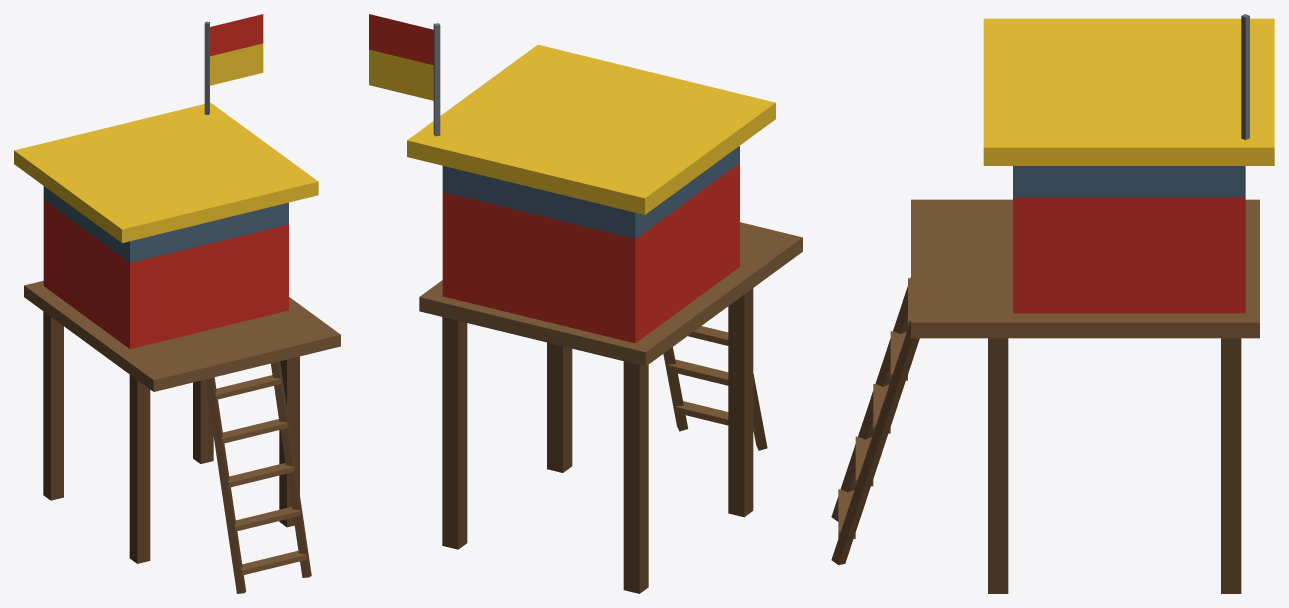
The model's file is lifeguard_tower.glb.
The picture shows the model from 3 angles, left to right: view 1: azimuth 30°, elevation 25°; view 2: azimuth 150°, elevation 25°; view 3: azimuth 270°, elevation 25°; orthographic projection. The views are drawn at different scales.
Parts seen in each view (by area): view 1: lifeguard_tower2; view 2: lifeguard_tower2; view 3: lifeguard_tower2.
Boxes of the visible parts, <box> form: lifeguard_tower2: <box>14,14,340,593</box>; lifeguard_tower2: <box>369,14,802,593</box>; lifeguard_tower2: <box>831,14,1274,593</box>.
Size of the model in its own units: 2.55 by 4.41 by 3.05.
